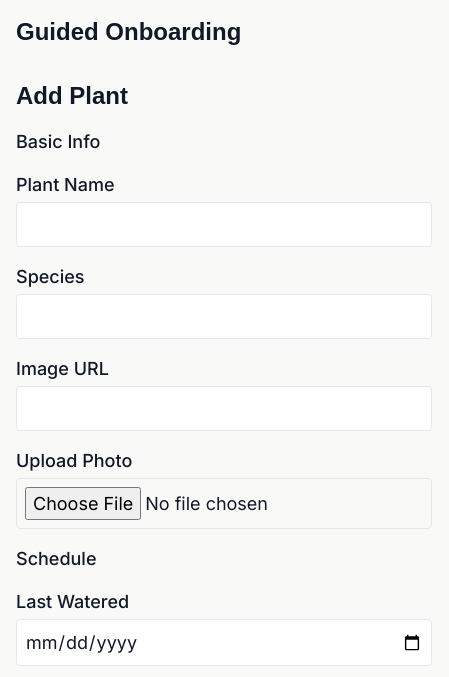
Test: shows error message on failure
In the field labelled "Plant Name": (224, 224) [16,202,432,247], type "A"
(page scrolled)
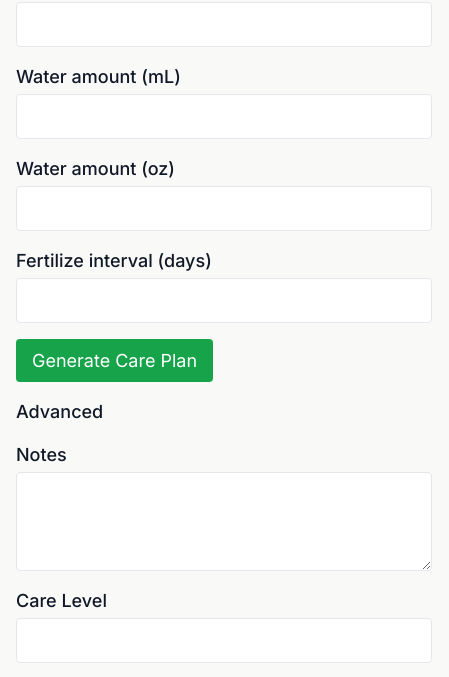
Click the button "Generate Care Plan": (115, 360) [16,339,213,382]
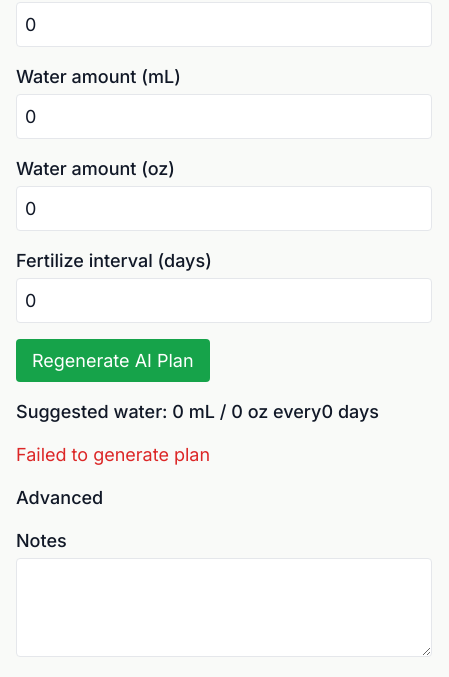
expect the message reads "Failed to generate plan": met, box [16,444,210,465]
